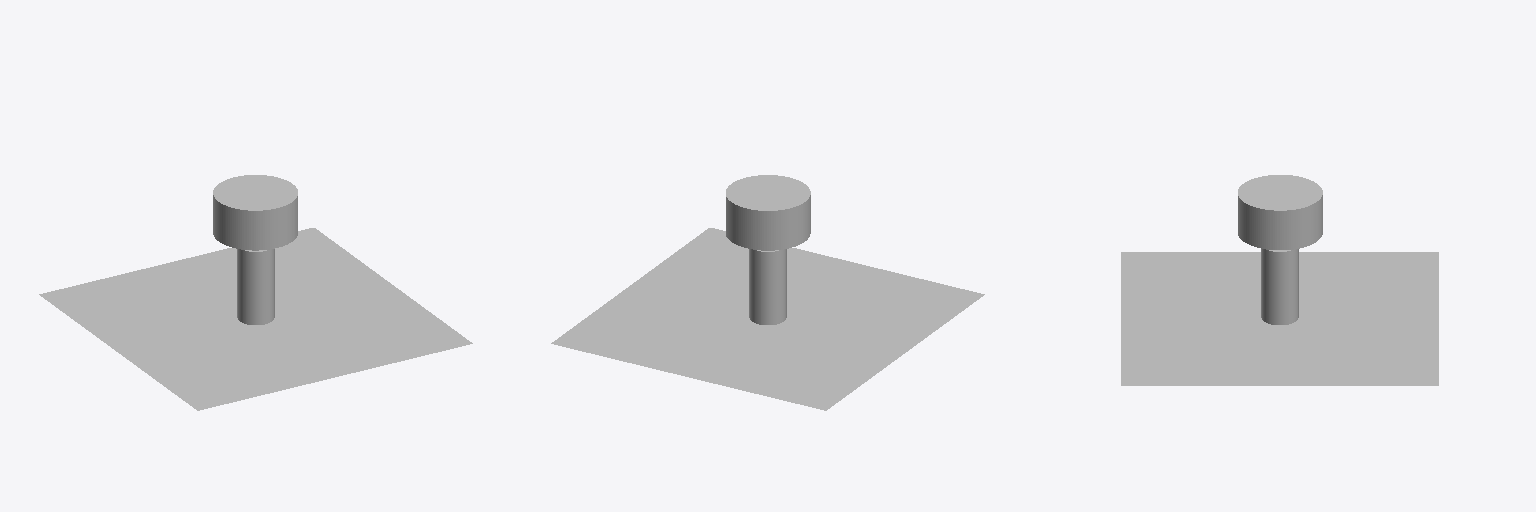
The model's file is lamp34.obj.
3 renders of one model, left to right at view 1: azimuth 30°, elevation 25°; view 2: azimuth 150°, elevation 25°; view 3: azimuth 270°, elevation 25°, orthographic.
Parts seen in each view (by area): view 1: Plane, Cylinder.002, Cylinder; view 2: Plane, Cylinder.002, Cylinder; view 3: Plane, Cylinder.002, Cylinder.
Part boxes in pixels (x1,y1,x2,y2): Plane: (39, 228, 472, 410); Cylinder.002: (213, 175, 297, 250); Cylinder: (237, 252, 274, 324); Plane: (551, 228, 984, 410); Cylinder.002: (726, 175, 810, 250); Cylinder: (749, 252, 786, 324); Plane: (1121, 252, 1438, 385); Cylinder.002: (1238, 175, 1322, 249); Cylinder: (1261, 252, 1298, 324).
Size of the model in its own units: 17.18 by 7.53 by 17.18.